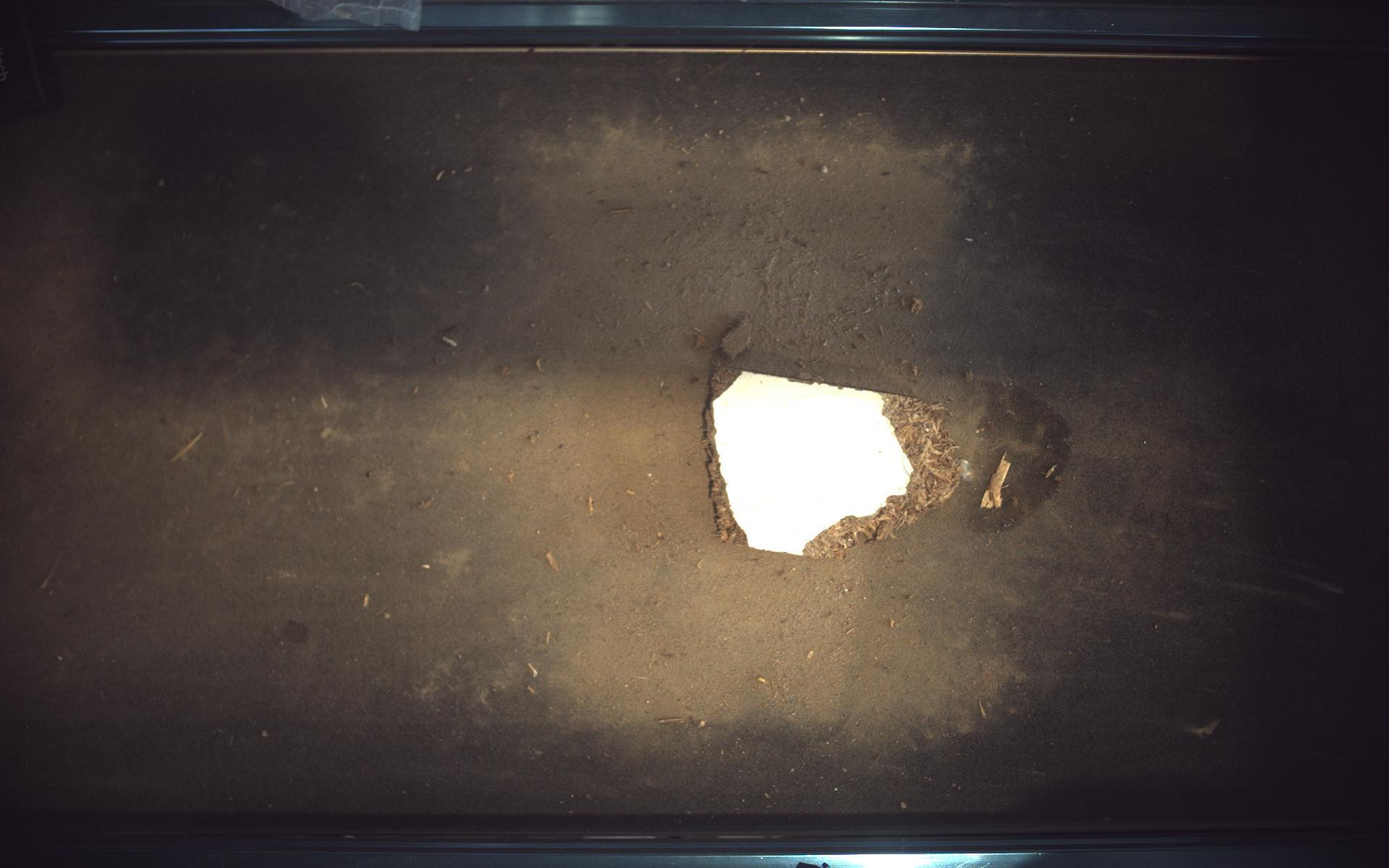wood: (707, 370, 961, 557)
